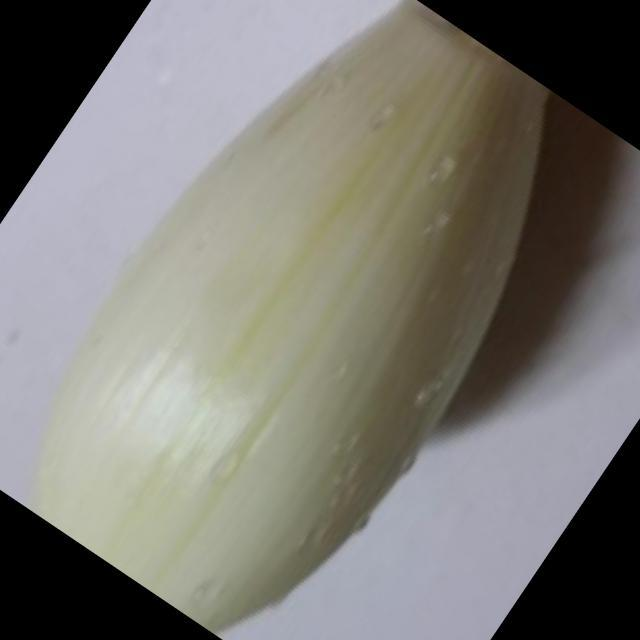Onion: (40, 0, 551, 633)
